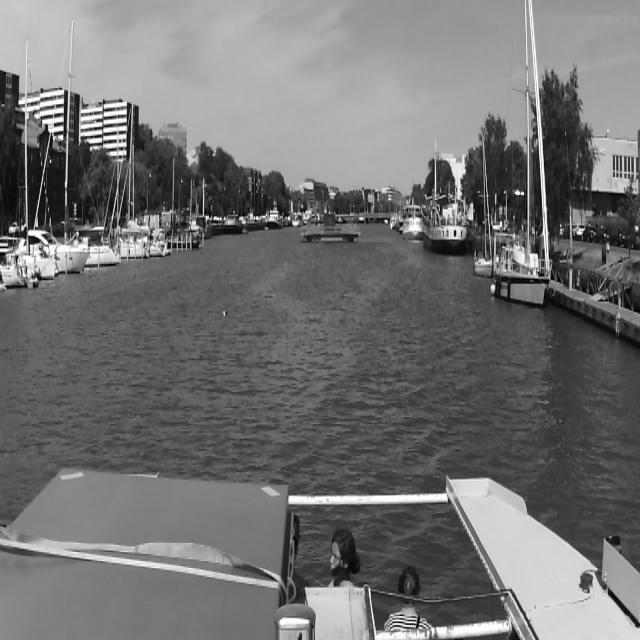ship: (491, 0, 552, 311), (0, 116, 64, 278), (423, 136, 468, 256), (114, 126, 151, 260), (168, 156, 200, 250), (28, 229, 89, 274), (474, 134, 491, 278), (301, 212, 361, 244), (400, 197, 422, 240)
